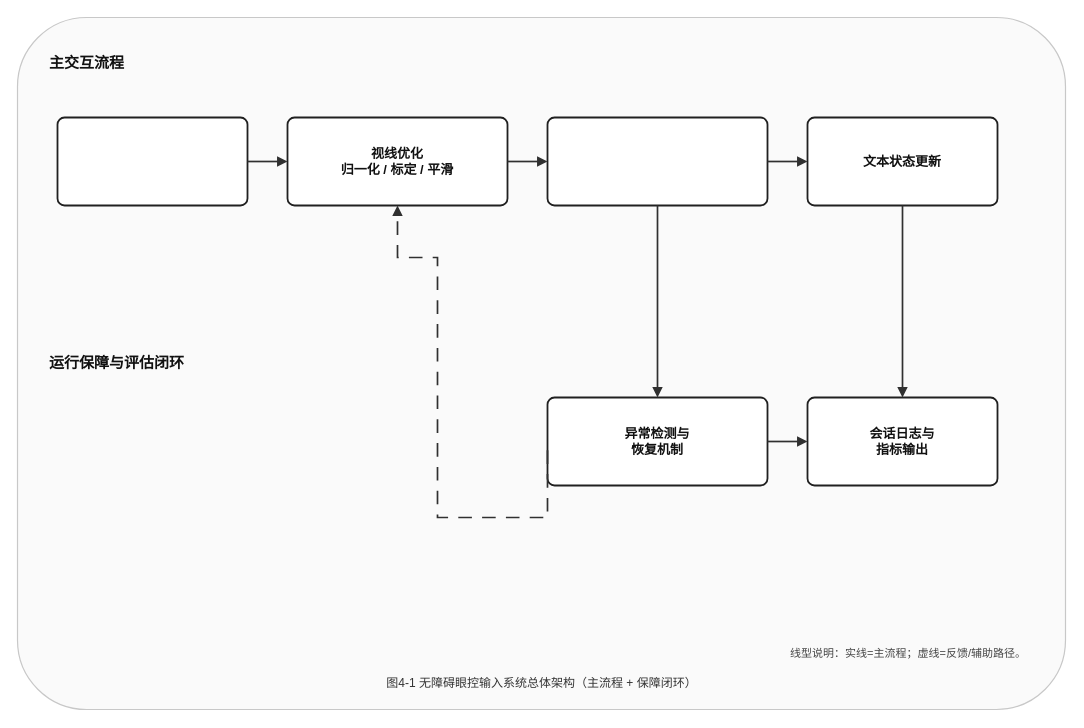
Some shapes in this 1084 by 728 pixel diagram are drawn without their labels. Here are the shapes that lost their labels. From the top down, the box of each, then its label:
(56, 116, 248, 206): OpenFace 实时采集
(546, 116, 768, 206): 目标命中与 停留触发
